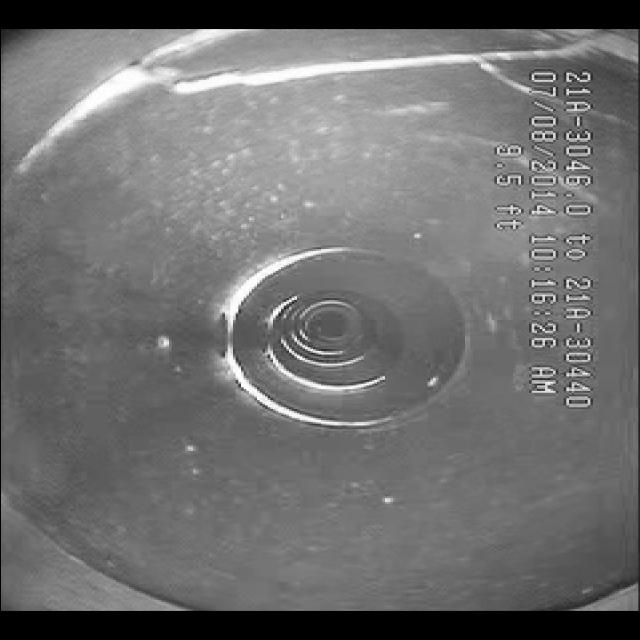Crack: (156, 36, 531, 112)
